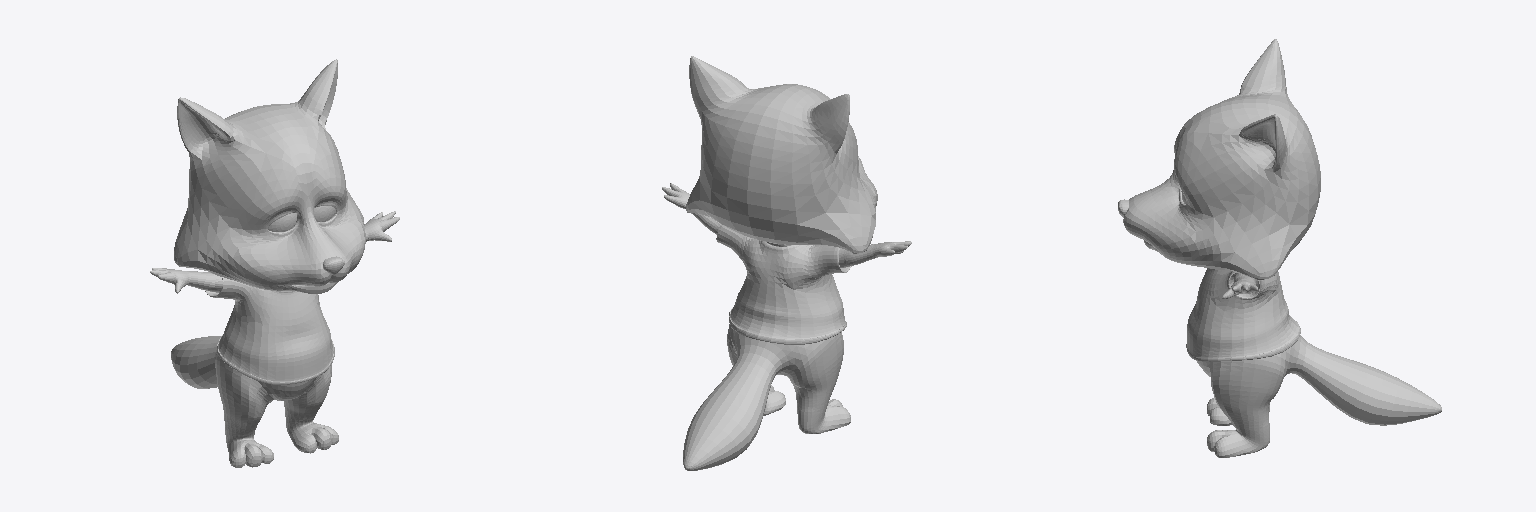
File: fox.obj
3 views of the same model, side by side, from view 1: azimuth 30°, elevation 25°; view 2: azimuth 150°, elevation 25°; view 3: azimuth 270°, elevation 25° (orthographic).
Visible parts, largest first — view 1: 3duPPFox_15231.Shape, 3duPPTShirt_2194.Shape; view 2: 3duPPFox_15231.Shape, 3duPPTShirt_2194.Shape; view 3: 3duPPFox_15231.Shape, 3duPPTShirt_2194.Shape.
Part boxes in pixels (bbox=[...]): 3duPPFox_15231.Shape: bbox=[150, 59, 399, 467]; 3duPPTShirt_2194.Shape: bbox=[205, 277, 334, 384]; 3duPPFox_15231.Shape: bbox=[662, 56, 911, 470]; 3duPPTShirt_2194.Shape: bbox=[716, 224, 851, 344]; 3duPPFox_15231.Shape: bbox=[1118, 39, 1441, 457]; 3duPPTShirt_2194.Shape: bbox=[1186, 268, 1300, 361].
Bounding box in the file's own units: 30.86 × 42.88 × 35.23.